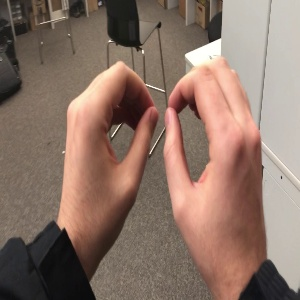hand: (163, 56, 269, 278), (60, 61, 160, 248)
